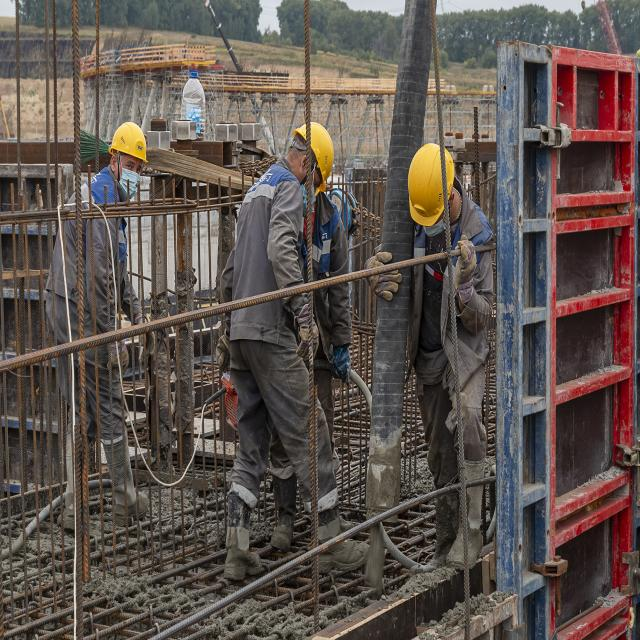Helmet: (408, 144, 457, 226), (294, 121, 334, 192), (108, 122, 152, 167)
NoJacket: (235, 170, 309, 360), (51, 180, 130, 333), (416, 213, 487, 379)
